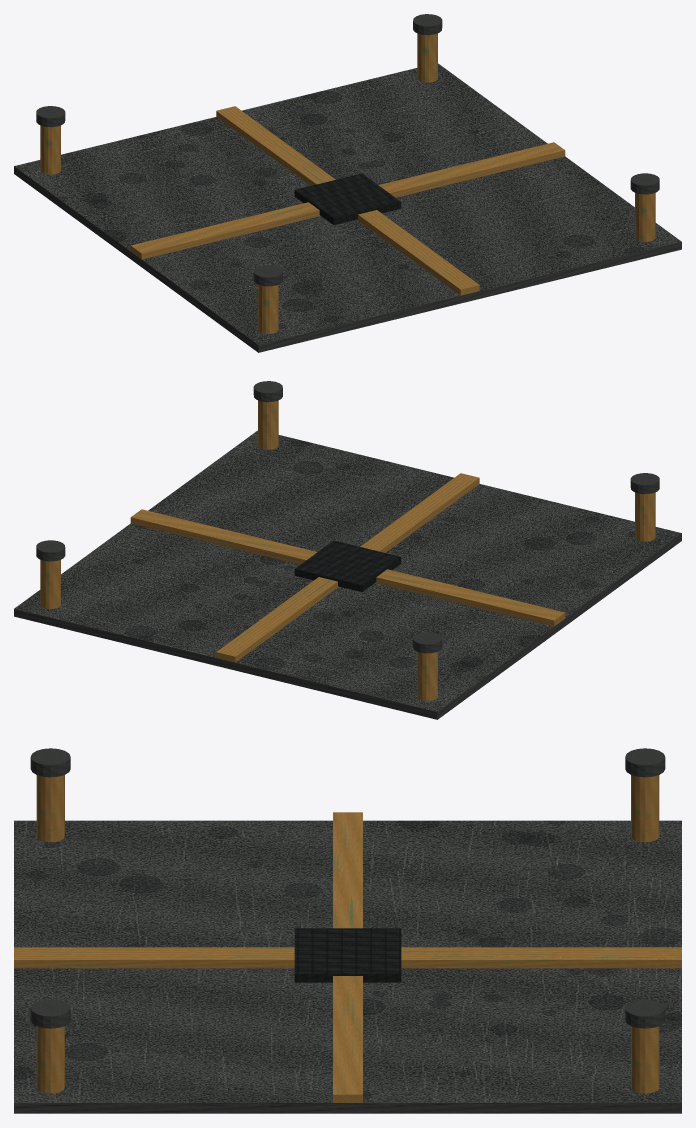
Rendered from SM_CornerIntersection_Marker_4m.obj.
3 renders of one model, top to bottom at view 1: azimuth 30°, elevation 25°; view 2: azimuth 150°, elevation 25°; view 3: azimuth 270°, elevation 25°, orthographic. The views are drawn at different scales.
Parts seen in each view (by area): view 1: Low_Profile_BasePlate, Brass_EastWestMarker, Brass_NorthSouthMarker, Brass_CornerBollards, Center_ServicePlate, Iron_BollardCaps; view 2: Low_Profile_BasePlate, Brass_EastWestMarker, Brass_NorthSouthMarker, Brass_CornerBollards, Center_ServicePlate, Iron_BollardCaps; view 3: Low_Profile_BasePlate, Brass_NorthSouthMarker, Brass_CornerBollards, Brass_EastWestMarker, Center_ServicePlate, Iron_BollardCaps.
Boxes of the visible parts, x1=… form: Low_Profile_BasePlate: x1=14, y1=63, x2=681, y2=352; Brass_EastWestMarker: x1=130, y1=142, x2=565, y2=259; Brass_NorthSouthMarker: x1=216, y1=106, x2=479, y2=295; Brass_CornerBollards: x1=40, y1=33, x2=655, y2=333; Center_ServicePlate: x1=294, y1=173, x2=401, y2=224; Iron_BollardCaps: x1=36, y1=14, x2=659, y2=286; Low_Profile_BasePlate: x1=14, y1=430, x2=681, y2=719; Brass_EastWestMarker: x1=130, y1=509, x2=565, y2=626; Brass_NorthSouthMarker: x1=216, y1=473, x2=479, y2=662; Brass_CornerBollards: x1=40, y1=400, x2=655, y2=700; Center_ServicePlate: x1=294, y1=540, x2=401, y2=591; Iron_BollardCaps: x1=36, y1=381, x2=659, y2=653; Low_Profile_BasePlate: x1=14, y1=820, x2=681, y2=1113; Brass_NorthSouthMarker: x1=14, y1=947, x2=681, y2=968; Brass_CornerBollards: x1=36, y1=775, x2=659, y2=1093; Brass_EastWestMarker: x1=333, y1=812, x2=362, y2=1102; Center_ServicePlate: x1=294, y1=928, x2=401, y2=982; Iron_BollardCaps: x1=30, y1=748, x2=665, y2=1028.
Bounding box in the file's own units: 4 × 0.595 × 4.
3 materials, 3 textured.
